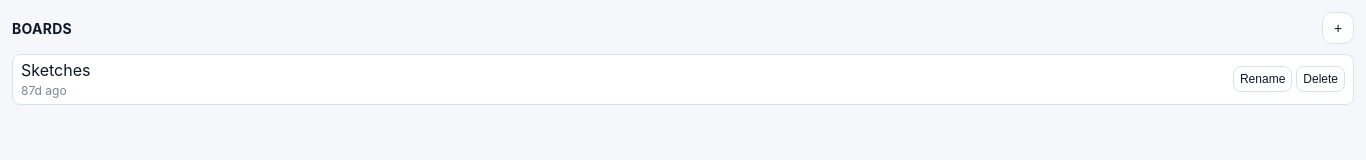
Scenario: BoardList › keeps rename controls compact without overlapping the action rail
expect the list item "Sketches 87d ago Rename Delete" is shown: met, box [12,54,1354,105]
expect the button with class "board-list__item-button" is shown: met, box [21,61,1227,80]
Click the button "Rename" at (1263, 80), box [1233,66,1292,92]
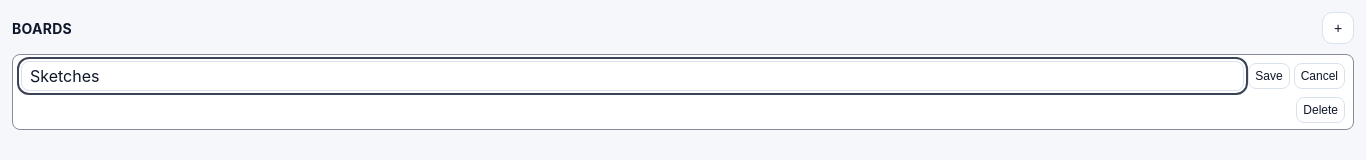
expect the element with class "board-list__item-actions" is shown: met, box [1296,97,1345,123]
expect the form with class "board-list__rename-form" is shown: met, box [21,61,1345,91]
expect the button "Rename" is gone: met
